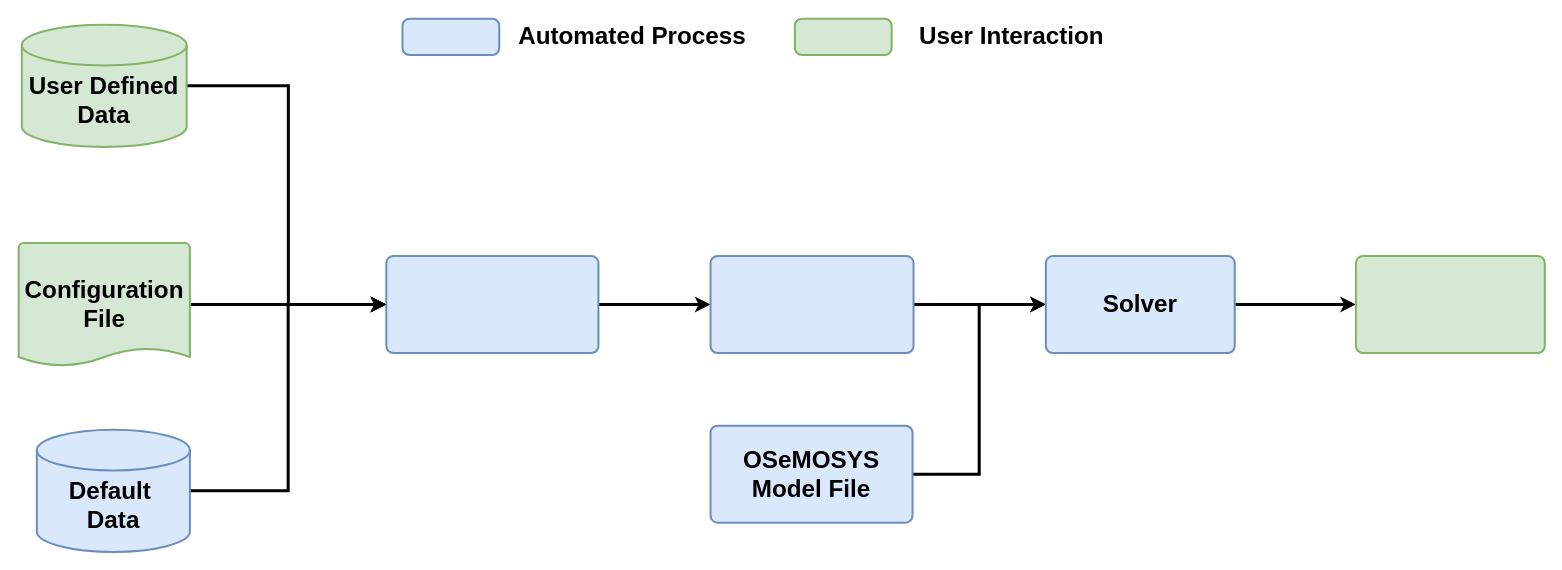
This 1562x570 diagram has some shape labels left out. The centre of each missing label's shape, as x and y in pixels:
"Data Processing" goes at (x=492, y=304).
"OSeMOSYS Data File" goes at (x=811, y=304).
"Result Data and Plots" goes at (x=1449, y=304).
